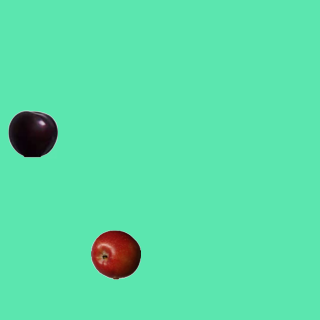Apple Braeburn: (90, 229, 140, 279)
Cherry Wax Black: (7, 108, 57, 158)
